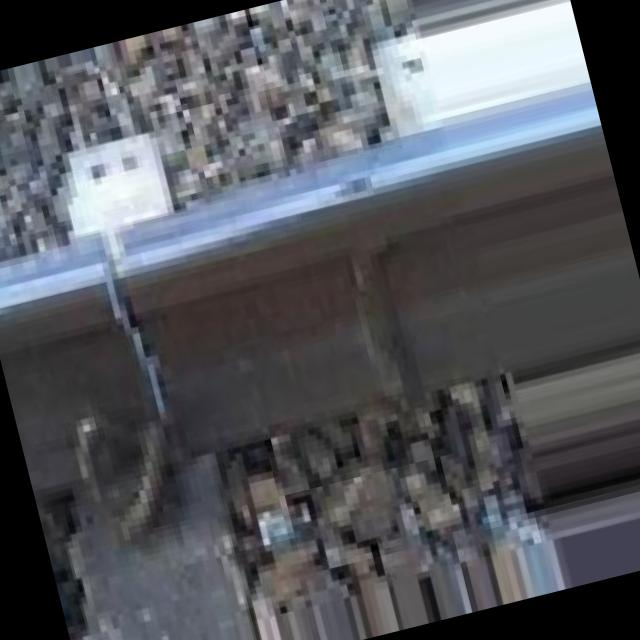defective: (0, 93, 429, 640)
